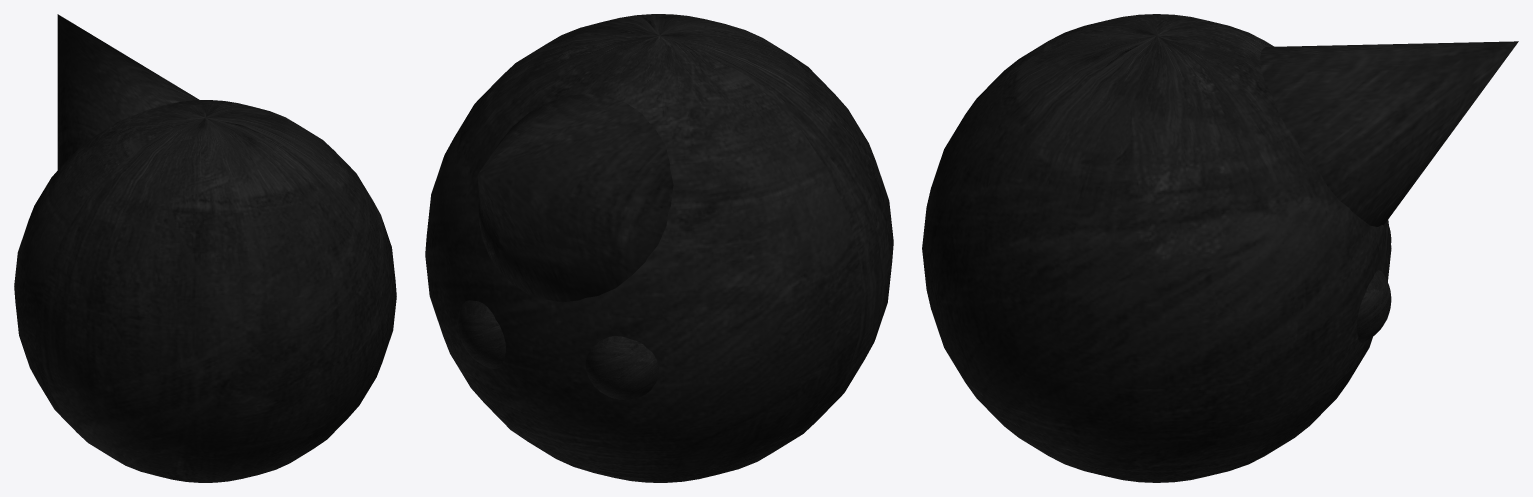
The model's file is Tunomaru_test.fbx.
The picture shows the model from 3 angles, left to right: view 1: azimuth 30°, elevation 25°; view 2: azimuth 150°, elevation 25°; view 3: azimuth 270°, elevation 25°; orthographic projection. The views are drawn at different scales.
Parts seen in each view (by area): view 1: Sphere, Cone; view 2: Sphere, Cone, Sphere.002, Sphere.001; view 3: Sphere, Cone, Sphere.001.
Part boxes in pixels (left/top/right/bottom): Sphere: left=14, top=100, right=396, bottom=482; Cone: left=57, top=14, right=199, bottom=169; Sphere: left=425, top=14, right=893, bottom=482; Cone: left=478, top=93, right=673, bottom=302; Sphere.002: left=585, top=336, right=658, bottom=399; Sphere.001: left=457, top=300, right=505, bottom=368; Sphere: left=922, top=14, right=1391, bottom=482; Cone: left=1260, top=41, right=1518, bottom=226; Sphere.001: left=1356, top=270, right=1391, bottom=342.
Size of the model in its own units: 200 by 200 by 254.
